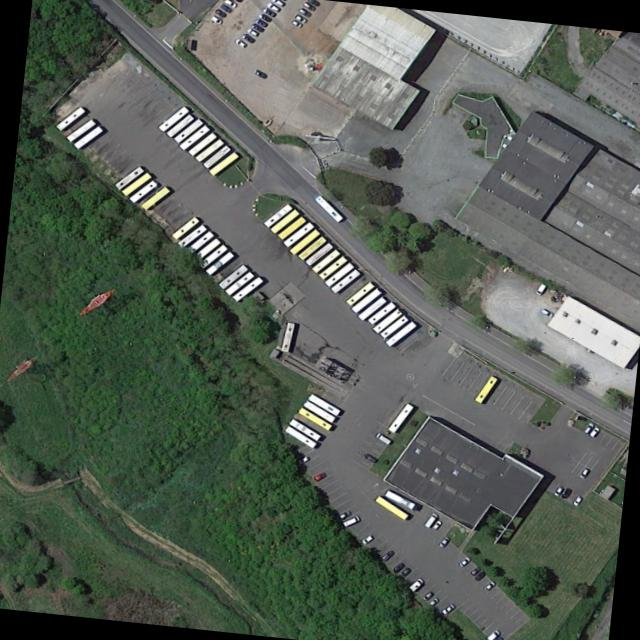large-vehicle: (384, 319, 417, 346), (371, 307, 403, 333), (178, 123, 210, 149), (282, 221, 315, 246), (373, 494, 407, 518), (289, 227, 320, 253), (350, 286, 381, 312), (231, 275, 263, 300), (157, 105, 189, 130), (297, 406, 331, 429), (330, 267, 360, 293), (55, 105, 86, 130), (344, 280, 375, 305), (120, 170, 152, 194), (288, 417, 321, 440), (302, 398, 335, 421), (307, 391, 340, 414), (218, 263, 248, 288), (388, 401, 413, 431), (297, 234, 327, 259), (173, 117, 203, 142), (224, 270, 255, 294), (176, 223, 207, 247), (72, 124, 103, 148), (208, 150, 239, 174), (324, 261, 355, 285), (315, 194, 342, 221), (198, 243, 227, 268), (304, 240, 333, 265), (262, 202, 292, 226), (204, 250, 234, 274), (284, 424, 315, 447), (473, 373, 498, 401), (186, 228, 215, 252), (202, 143, 231, 167), (270, 208, 299, 232), (379, 313, 408, 337), (357, 295, 386, 319), (318, 254, 347, 278), (140, 185, 170, 208), (276, 215, 306, 238), (194, 138, 224, 161), (187, 131, 217, 154), (366, 300, 396, 323), (128, 179, 157, 202), (114, 165, 143, 188), (312, 248, 341, 271), (66, 118, 96, 140), (171, 215, 199, 238), (165, 113, 193, 136), (384, 488, 415, 507), (195, 237, 221, 258), (280, 321, 294, 351)
small-vehicle: (340, 513, 360, 527), (422, 511, 439, 527), (374, 431, 392, 444), (485, 627, 501, 640), (441, 601, 457, 614), (249, 20, 266, 32), (577, 465, 591, 479), (381, 547, 396, 560), (240, 31, 256, 43), (265, 0, 281, 12), (217, 1, 233, 13), (296, 5, 312, 17), (296, 452, 312, 464), (534, 281, 547, 295), (582, 420, 595, 434), (473, 569, 487, 582), (437, 534, 451, 547), (312, 469, 327, 481), (362, 451, 378, 462), (292, 11, 308, 22), (538, 306, 555, 316), (458, 555, 472, 567), (398, 565, 412, 577), (392, 560, 406, 572), (262, 5, 277, 16), (245, 25, 260, 36), (302, 0, 317, 11), (587, 425, 600, 437), (483, 579, 496, 591), (209, 13, 223, 24), (337, 508, 351, 519), (253, 68, 268, 78), (253, 16, 268, 26), (258, 11, 273, 21), (571, 493, 583, 505), (361, 532, 373, 544), (560, 485, 571, 498), (552, 484, 565, 495), (430, 518, 443, 529), (428, 595, 440, 606), (422, 589, 434, 600), (234, 36, 247, 46), (290, 17, 302, 27), (469, 565, 481, 575), (214, 7, 227, 16), (222, 0, 238, 7), (272, 0, 286, 7), (492, 635, 504, 640)
